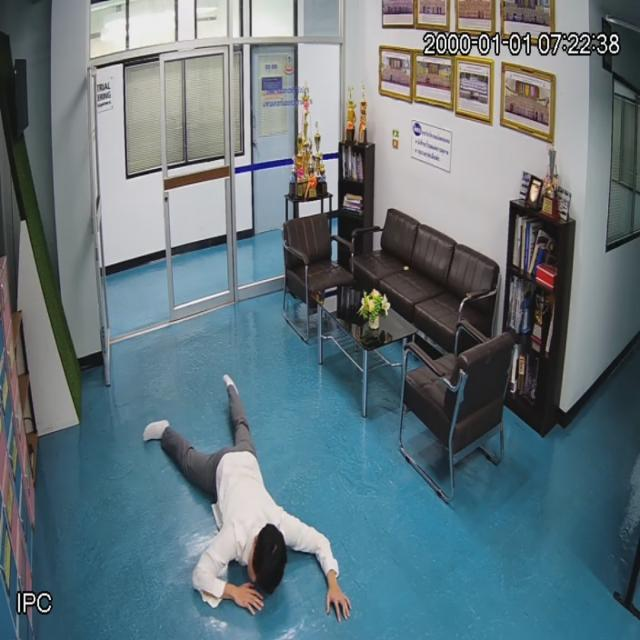fall: (146, 364, 353, 620)
